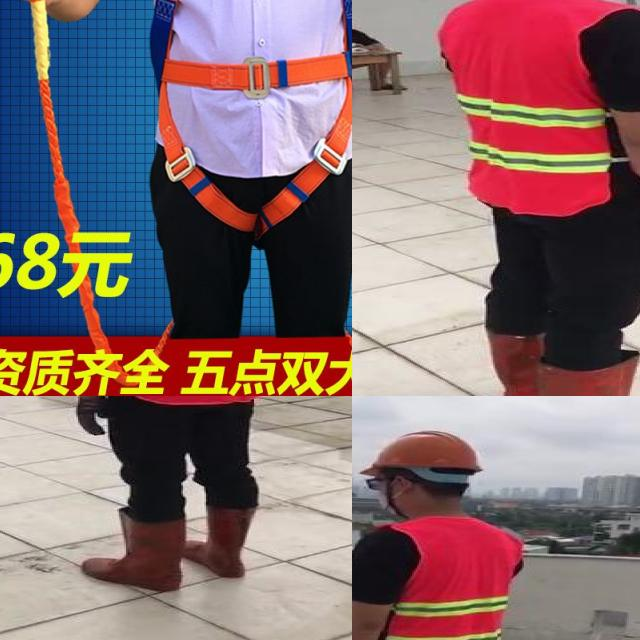Harness: (151, 0, 352, 230)
boots: (85, 511, 187, 591), (489, 332, 596, 396), (186, 506, 258, 577), (539, 357, 640, 396)
hand_glove: (76, 396, 113, 435)
head_helmet: (355, 426, 480, 476)
person: (424, 0, 640, 396), (53, 396, 306, 592), (352, 417, 534, 640)
vest: (439, 0, 621, 215), (378, 517, 518, 640)
